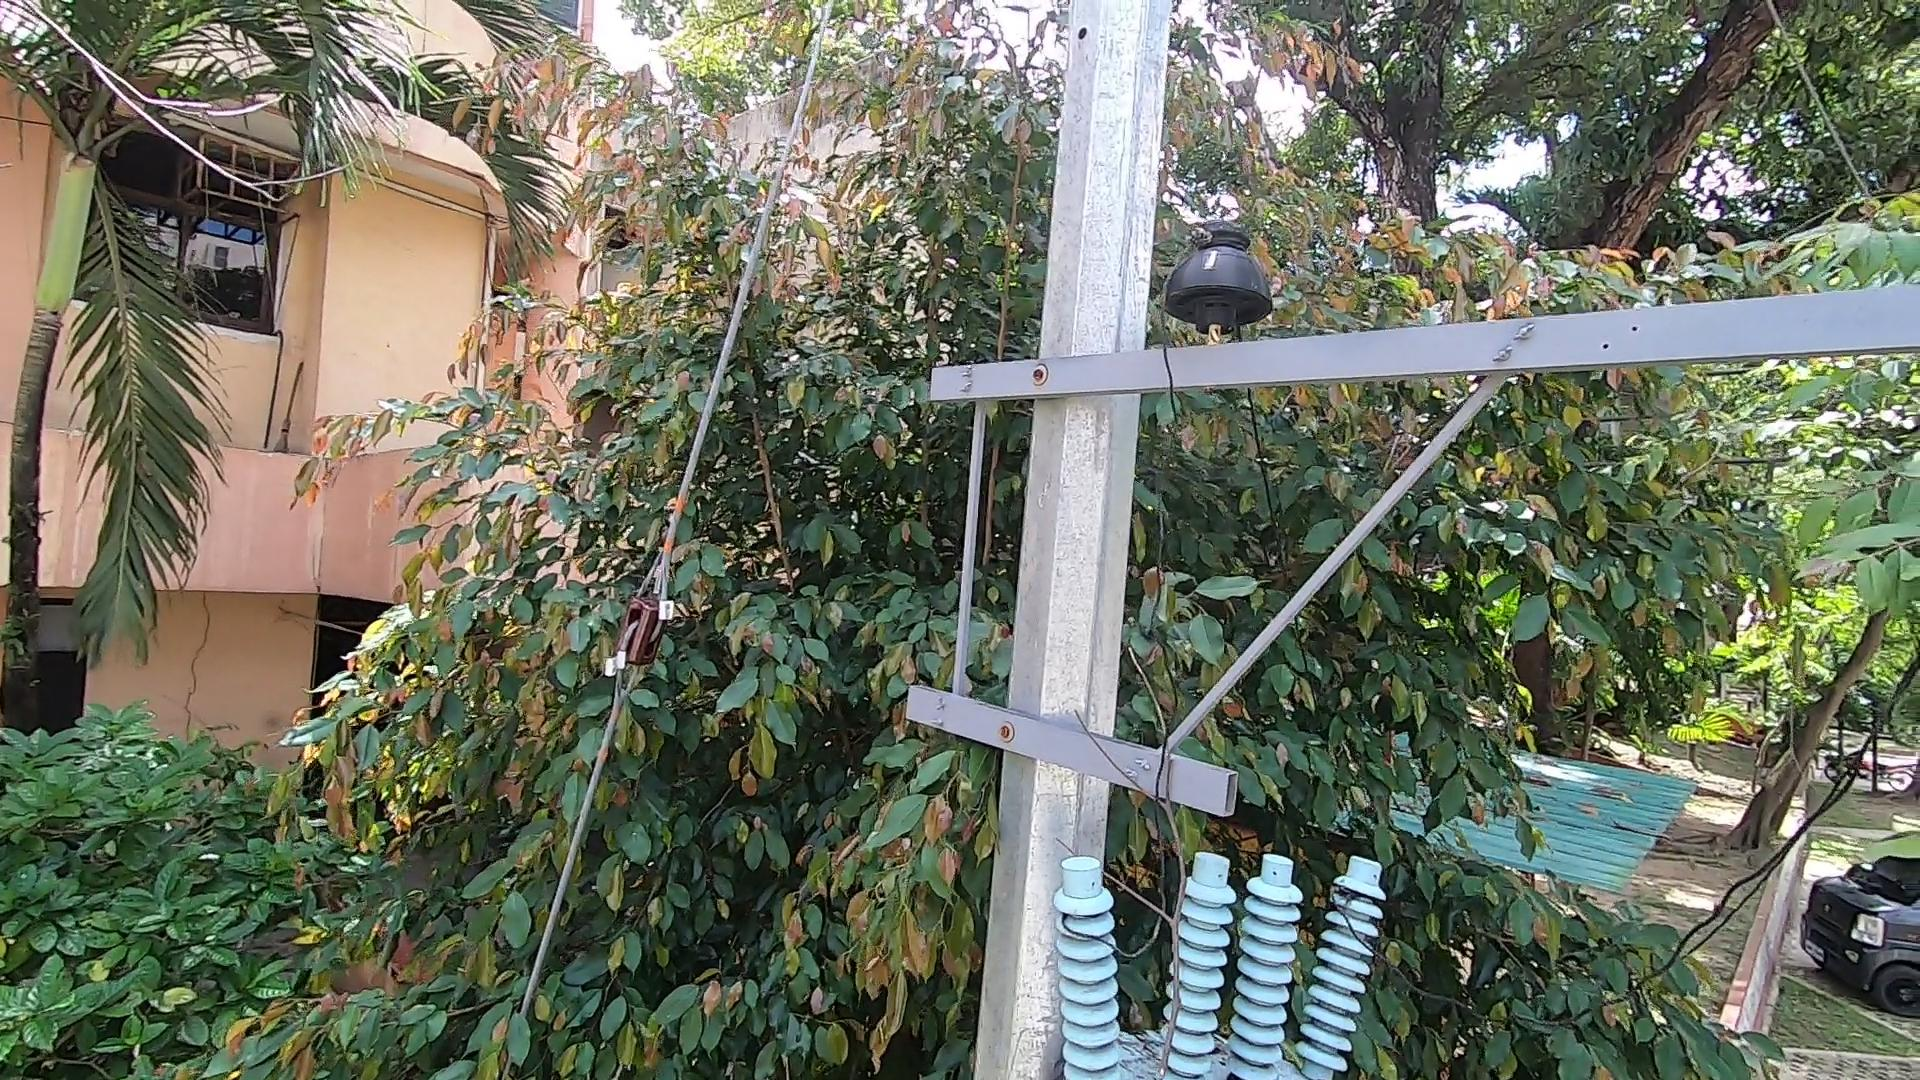tree branch: (1069, 625, 1215, 1080)
